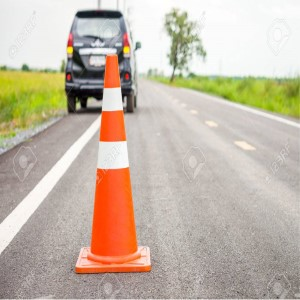traffic cone: (74, 53, 152, 273)
